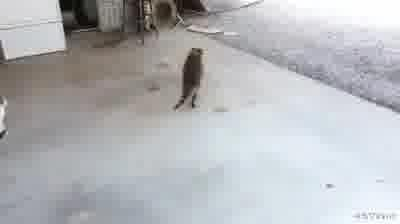raccoon: (175, 45, 206, 113)
